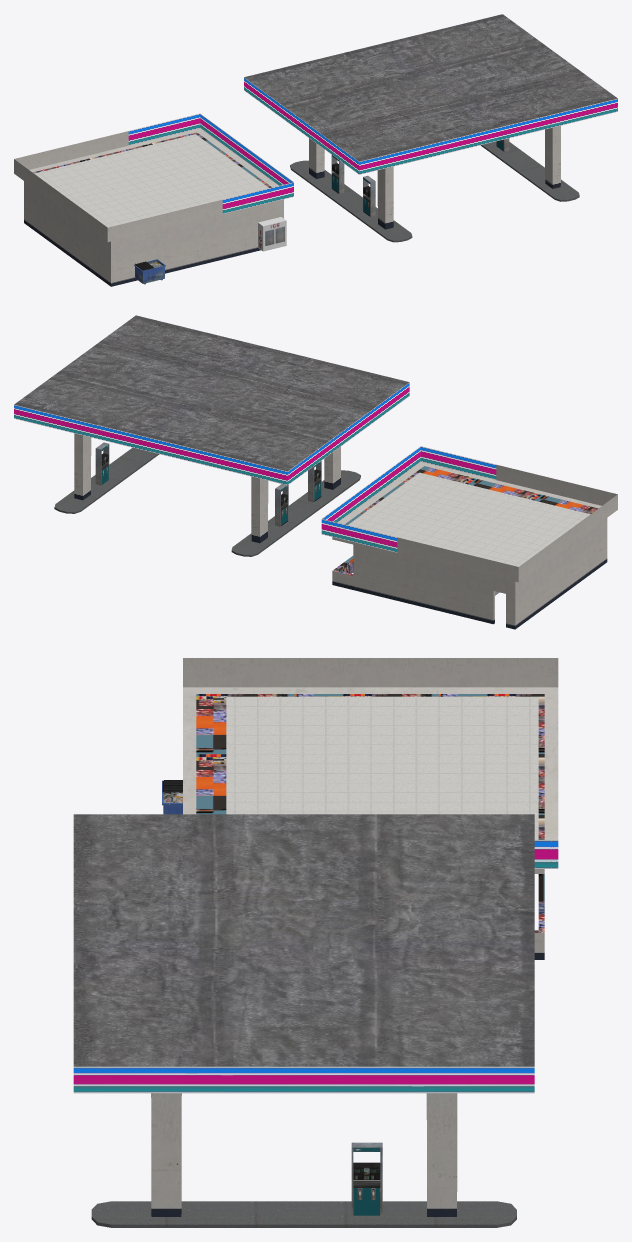
The model's file is gasstation.glb.
3 renders of one model, top to bottom at view 1: azimuth 30°, elevation 25°; view 2: azimuth 150°, elevation 25°; view 3: azimuth 270°, elevation 25°, orthographic. The views are drawn at different scales.
Parts seen in each view (by area): view 1: Dumpster_T; view 2: Dumpster_T; view 3: Dumpster_T.
Boxes of the visible parts, bbox=[...] form: Dumpster_T: bbox=[14, 14, 617, 286]; Dumpster_T: bbox=[14, 315, 617, 629]; Dumpster_T: bbox=[73, 658, 558, 1227].
Size of the model in its own units: 121 by 23.12 by 52.73.
Materials: 16 (16 with a texture image).
